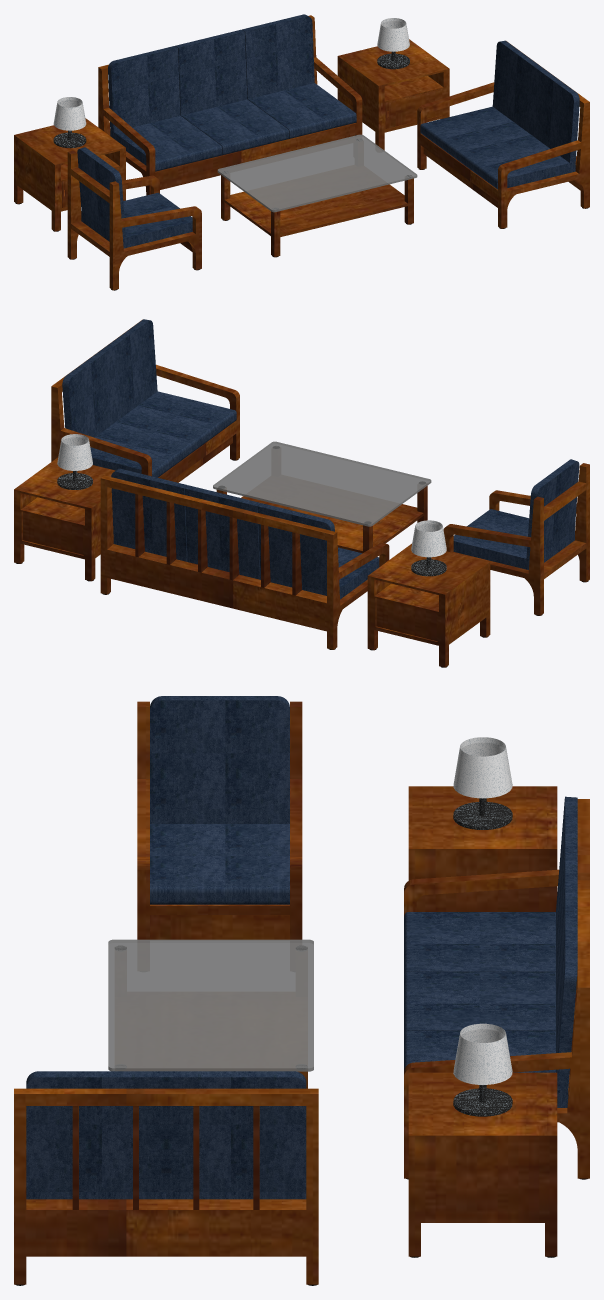
The model's file is SofaSet.dae.
3 views of the same model, one above another, from view 1: azimuth 30°, elevation 25°; view 2: azimuth 150°, elevation 25°; view 3: azimuth 270°, elevation 25° (orthographic). The views are drawn at different scales.
Visible parts, largest first — view 1: group_8 (×3), group_28, group_12, group_34, group_5, group_27, group_48, group_30, group_32, group_31, group_47, group_33 (+10 smaller); view 2: group_8 (×6), group_34, group_28, group_5, group_12, group_48, group_32, group_22, group_25, group_30, group_23, group_24 (+13 smaller); view 3: group_8 (×2), group_28, group_12, group_3, group_25, group_23, group_4, group_34, group_33, group_47, group_5, group_51 (×2) (+9 smaller).
Boxes of the visible parts, box(x1,y1,x2,y2) form: group_8 (×3): box(14, 39, 449, 231); group_28: box(217, 134, 417, 212); group_12: box(417, 41, 589, 228); group_34: box(98, 15, 362, 195); group_5: box(67, 150, 201, 290); group_27: box(221, 175, 413, 257); group_48: box(242, 14, 314, 98); group_30: box(108, 46, 180, 131); group_32: box(175, 29, 247, 115); group_31: box(247, 83, 356, 138); group_47: box(180, 99, 288, 155); group_33: box(110, 115, 222, 171); group_8 (×6): box(14, 457, 490, 667); group_34: box(100, 475, 389, 649); group_28: box(213, 441, 431, 526); group_5: box(443, 463, 589, 615); group_12: box(51, 319, 239, 482); group_48: box(111, 468, 187, 557); group_32: box(184, 485, 260, 575); group_22: box(115, 391, 236, 450); group_25: box(62, 348, 115, 437); group_30: box(257, 503, 334, 591); group_23: box(104, 319, 157, 421); group_24: box(90, 422, 194, 477); group_8 (×2): box(408, 786, 557, 1256); group_28: box(108, 939, 313, 1071); group_12: box(14, 1088, 318, 1284); group_3: box(150, 696, 289, 823); group_25: box(166, 1071, 306, 1191); group_23: box(26, 1071, 166, 1191); group_4: box(150, 824, 289, 904); group_34: box(404, 799, 589, 1178); group_33: box(404, 912, 555, 975); group_47: box(404, 971, 555, 1035); group_5: box(137, 701, 302, 939); group_51 (×2): box(453, 737, 512, 1084).
Size of the model in its own units: 147 by 91.5 by 35.71.
7 materials, 2 textured.
